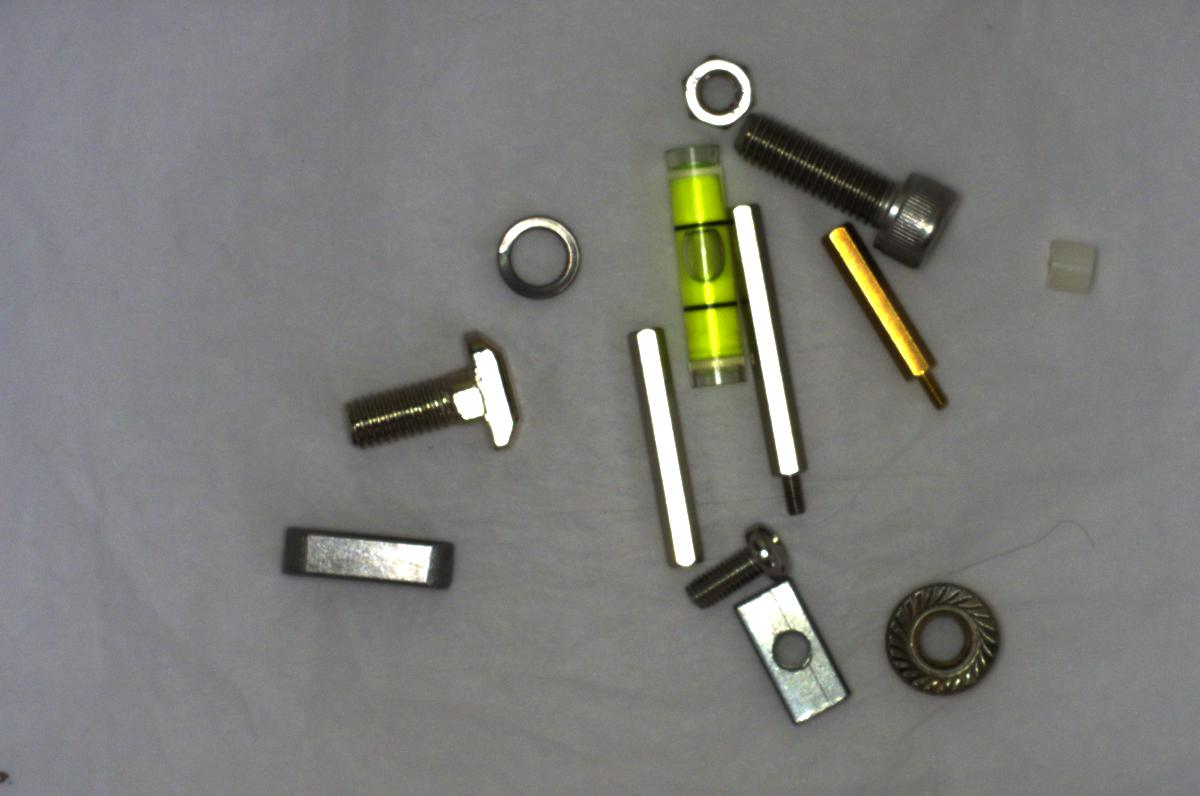Double hexagonal column: (625, 319, 703, 577)
Flange nut: (878, 568, 1011, 703)
Hexagon nut: (673, 45, 758, 137)
Hexagon pillar: (821, 215, 958, 422)
Hexagon screw: (728, 112, 966, 263)
Hexagonal steel column: (733, 192, 821, 521)
Horizontal bubble: (655, 133, 756, 395)
Keybar: (237, 510, 474, 604)
Plastic cushion pillar: (1032, 230, 1108, 299)
Rectangular nut: (733, 585, 855, 726)
Round head screw: (678, 517, 800, 612)
Spring washer: (482, 206, 593, 306)
T-shaped screw: (350, 324, 520, 462)
